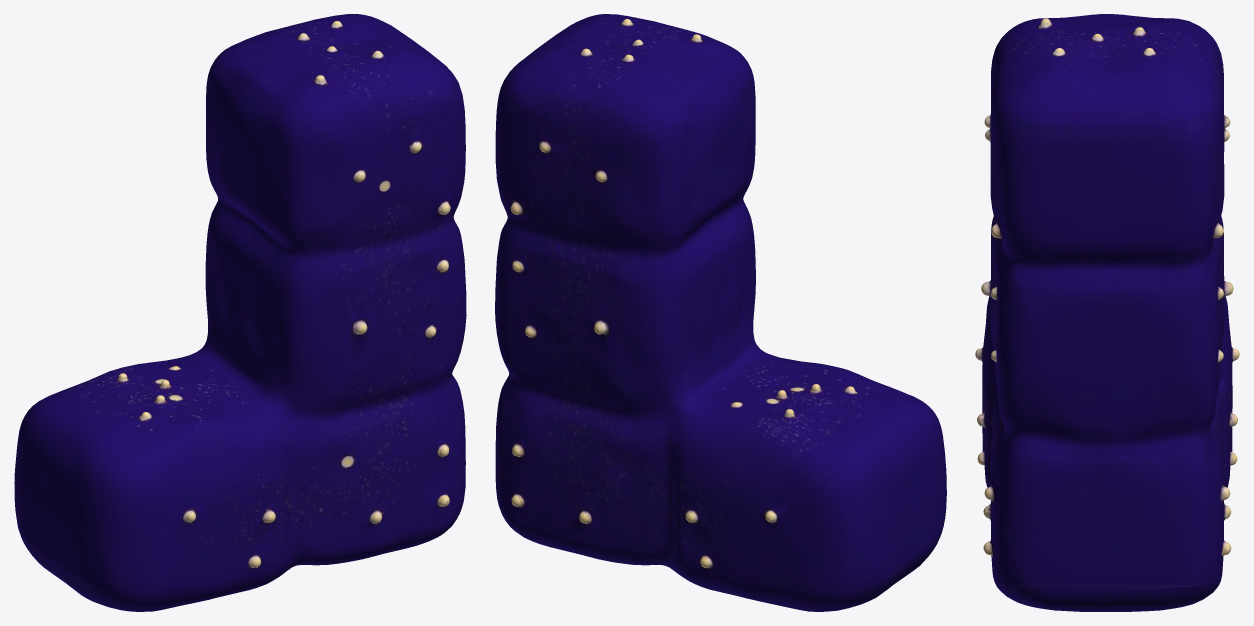
File: prop-cosmic-blocks.glb
3 views of the same model, side by side, from view 1: azimuth 30°, elevation 25°; view 2: azimuth 150°, elevation 25°; view 3: azimuth 270°, elevation 25° (orthographic). The views are drawn at different scales.
Visible parts, largest first — view 1: Mesh_0; view 2: Mesh_0; view 3: Mesh_0.
Part boxes in pixels (box(x1,y1,x2,y2)): Mesh_0: box(14, 14, 466, 611); Mesh_0: box(495, 14, 946, 611); Mesh_0: box(975, 14, 1239, 611).
Size of the model in its own units: 1.53 by 1.9 by 0.8378.
1 material, 1 textured.
